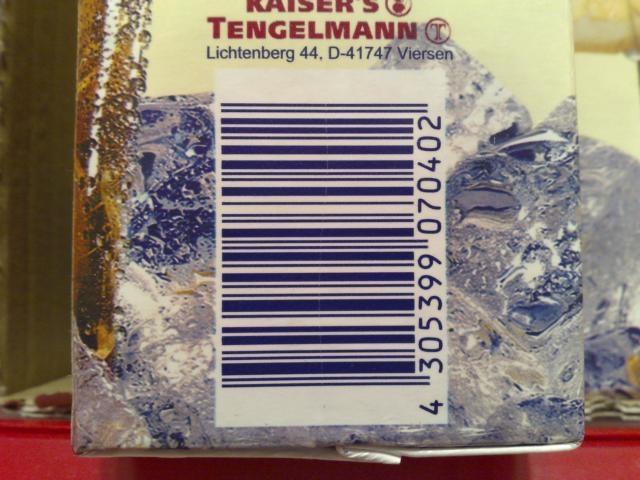Barcode: (214, 68, 447, 426)
